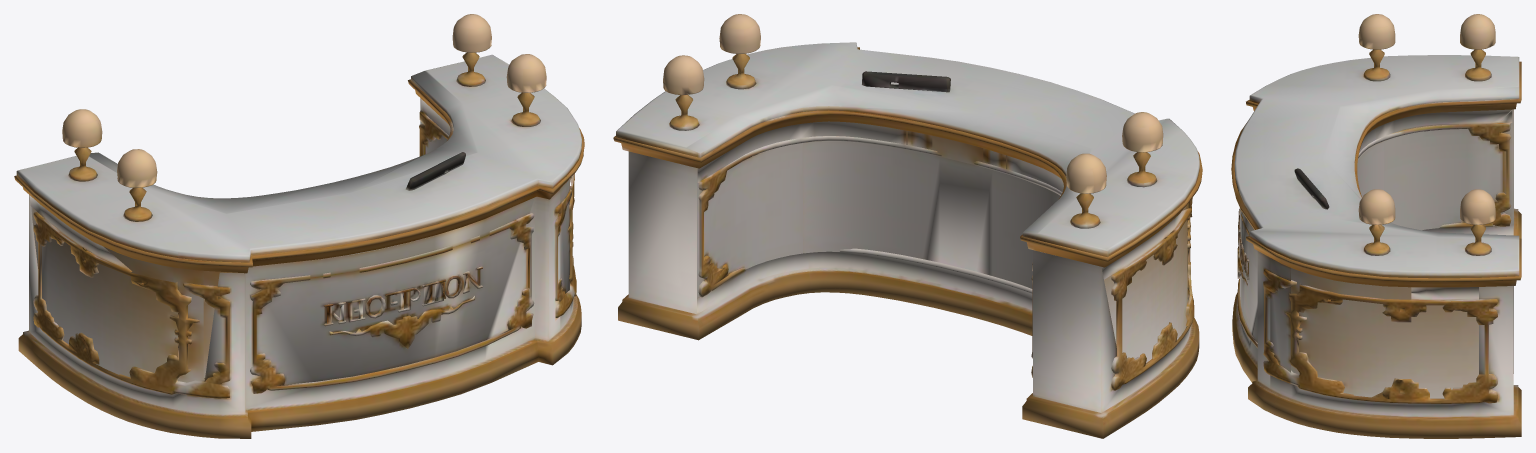
File: fancy_reception_desk_58fde71d_v2.glb
The picture shows the model from 3 angles, left to right: view 1: azimuth 30°, elevation 25°; view 2: azimuth 150°, elevation 25°; view 3: azimuth 270°, elevation 25°; orthographic projection. The views are drawn at different scales.
Parts seen in each view (by area): view 1: material; view 2: material; view 3: material.
Part boxes in pixels (<box>): material: <box>14,14,584,438</box>; material: <box>613,14,1202,438</box>; material: <box>1231,14,1521,438</box>.
Bounding box in the file's own units: 1.9 × 0.923 × 1.06.
1 material, 1 textured.
